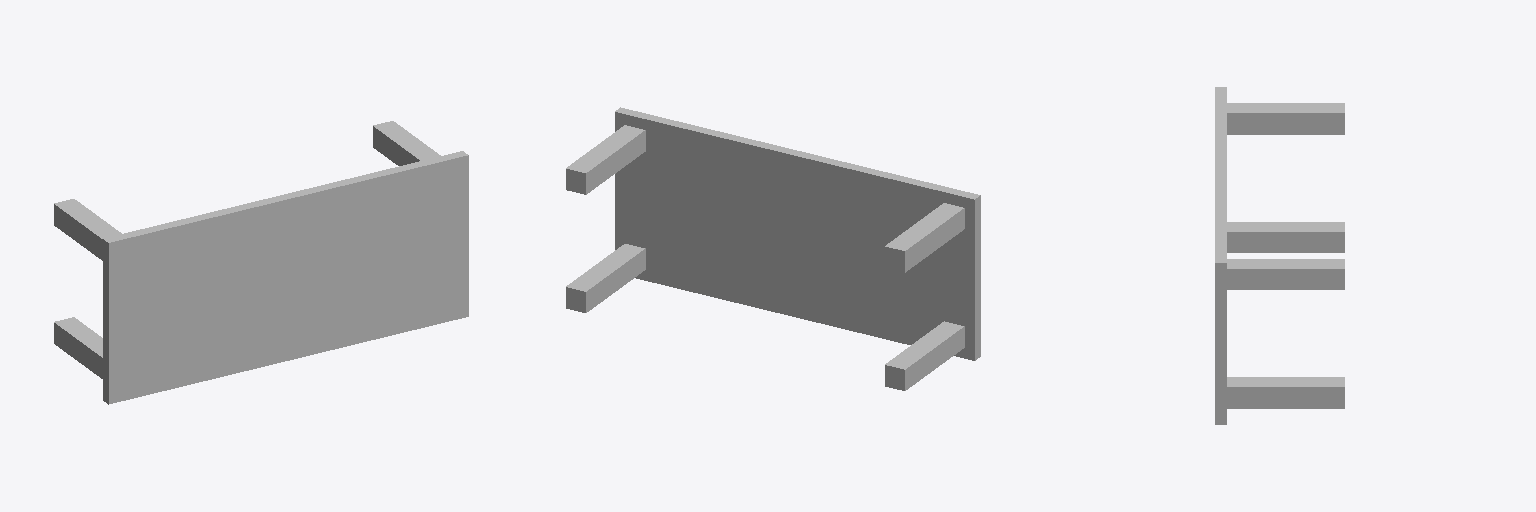
File: Lab Table.obj
3 renders of one model, left to right at view 1: azimuth 30°, elevation 25°; view 2: azimuth 150°, elevation 25°; view 3: azimuth 270°, elevation 25°, orthographic.
Visible parts, largest first — view 1: g object_1_object_1; view 2: g object_1_object_1; view 3: g object_1_object_1.
Part boxes in pixels (x1,y1,x2,y2): g object_1_object_1: (54,121,468,404); g object_1_object_1: (566,107,980,390); g object_1_object_1: (1215,87,1344,424).
Bounding box in the file's own units: 35 × 15 × 11.